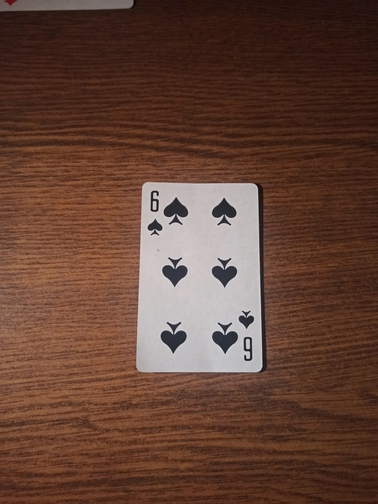sixspades: (133, 180, 267, 375)
